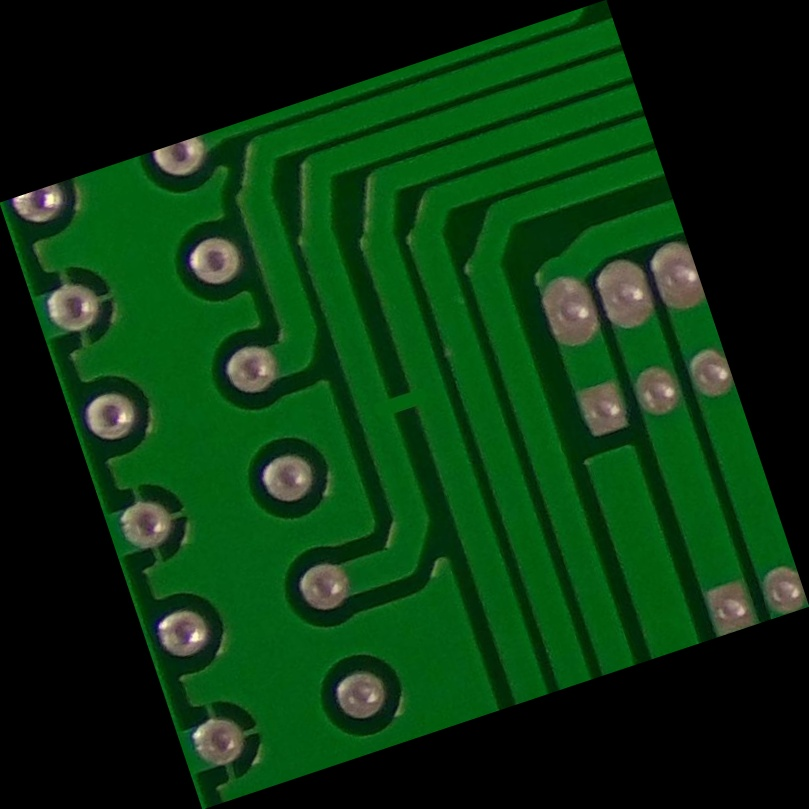short: (339, 341, 470, 468)
